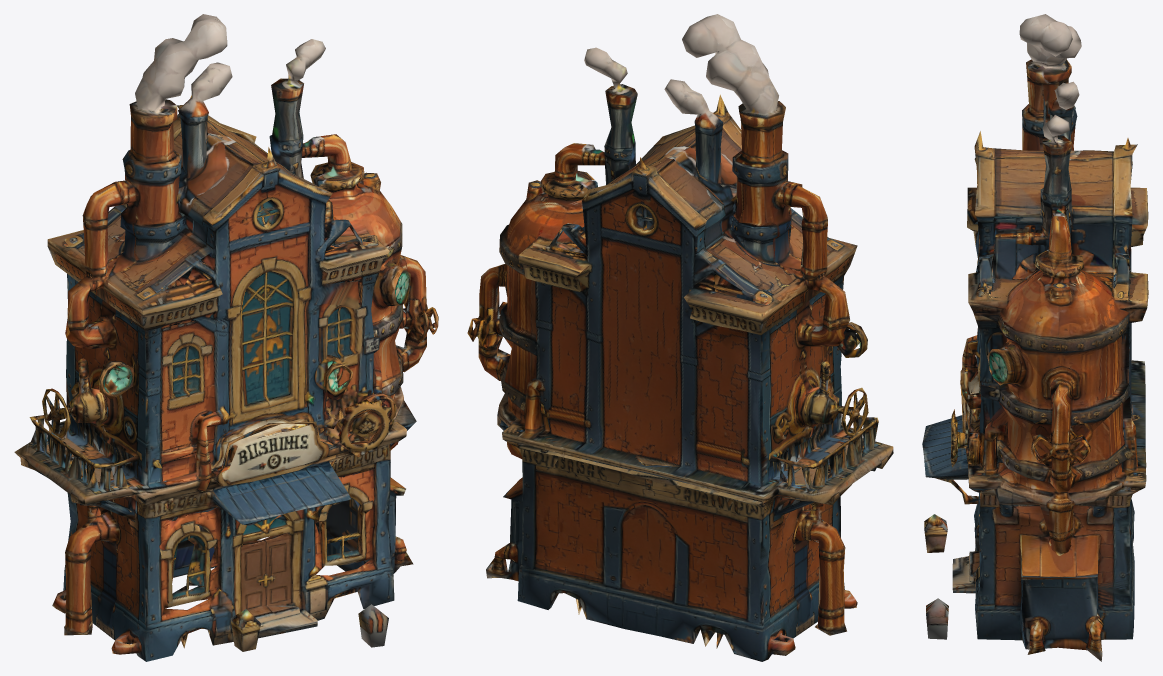
Rendered from Varco_BoilerHouse.fbx.
3 renders of one model, left to right at view 1: azimuth 30°, elevation 25°; view 2: azimuth 150°, elevation 25°; view 3: azimuth 270°, elevation 25°, orthographic. The views are drawn at different scales.
Visible parts, largest first — view 1: texture_mapping; view 2: texture_mapping; view 3: texture_mapping.
Part boxes in pixels (left/top/right/bottom): texture_mapping: left=14, top=14, right=438, bottom=661; texture_mapping: left=467, top=14, right=893, bottom=661; texture_mapping: left=922, top=14, right=1148, bottom=661.
Size of the model in its own units: 0.6733 by 0.3695 by 1.03.
1 material, 1 textured.
